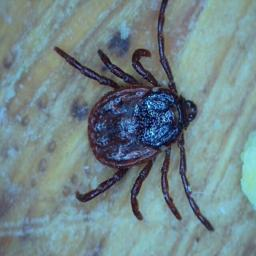Rhipicephalus sanguineus: (53, 0, 214, 232)
